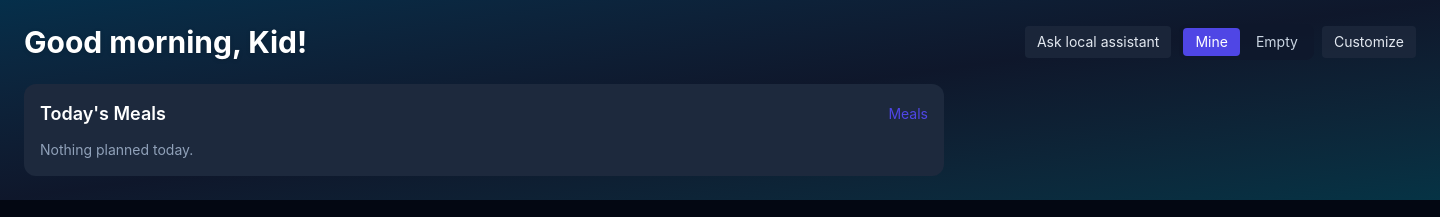
Dashboard customization › shows the saved wallpaper, pages and widths
Click the tab "Empty" at (1277, 42), box [1244,28,1310,56]
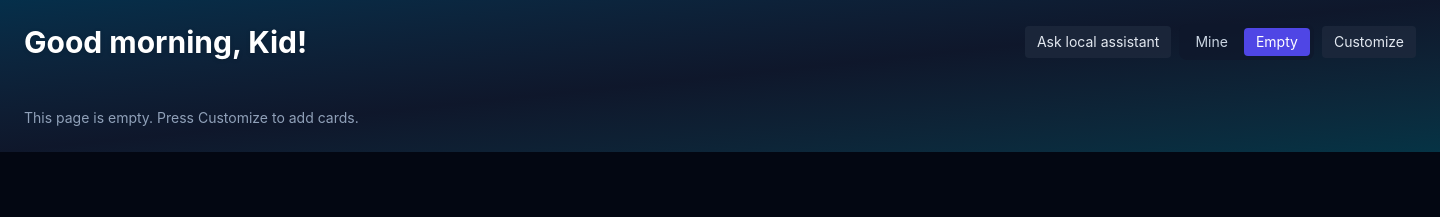
Expected: the text "This page is empty. Press Customize to add cards." is shown, [24,109,359,126]
